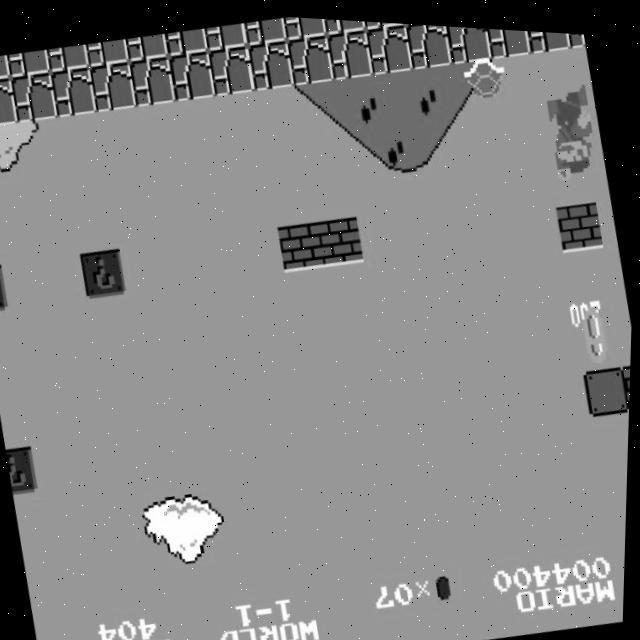0- big_mario: (543, 75, 605, 178)
1- brick_block: (316, 210, 366, 265), (277, 216, 327, 271), (623, 355, 632, 403)
13- mystery_block: (80, 245, 130, 300), (8, 445, 43, 496), (0, 264, 12, 315)
16- shell: (461, 47, 513, 102)
17- undestructible_block: (167, 46, 218, 102), (207, 40, 257, 96), (365, 17, 415, 72), (325, 23, 375, 78), (286, 29, 336, 84), (246, 35, 296, 90), (128, 52, 178, 107), (89, 58, 139, 113), (49, 64, 99, 119), (10, 70, 60, 125), (404, 19, 454, 66), (443, 21, 493, 61), (482, 22, 532, 55), (164, 24, 210, 56), (124, 30, 170, 62), (85, 36, 131, 68), (45, 42, 91, 74), (6, 47, 52, 79), (243, 12, 288, 44), (204, 19, 249, 51), (522, 24, 572, 49), (282, 13, 328, 38), (0, 76, 20, 130), (322, 15, 367, 33), (361, 17, 406, 27), (562, 26, 586, 42), (0, 54, 12, 85)
3- empty_block: (583, 357, 632, 411)
